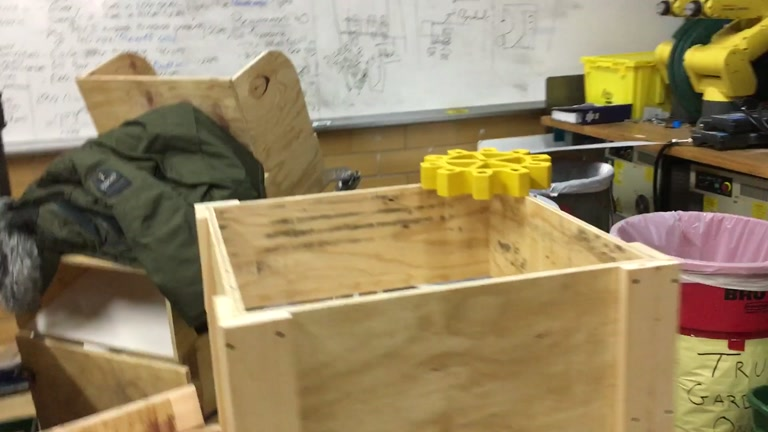gear: (419, 147, 552, 201)
